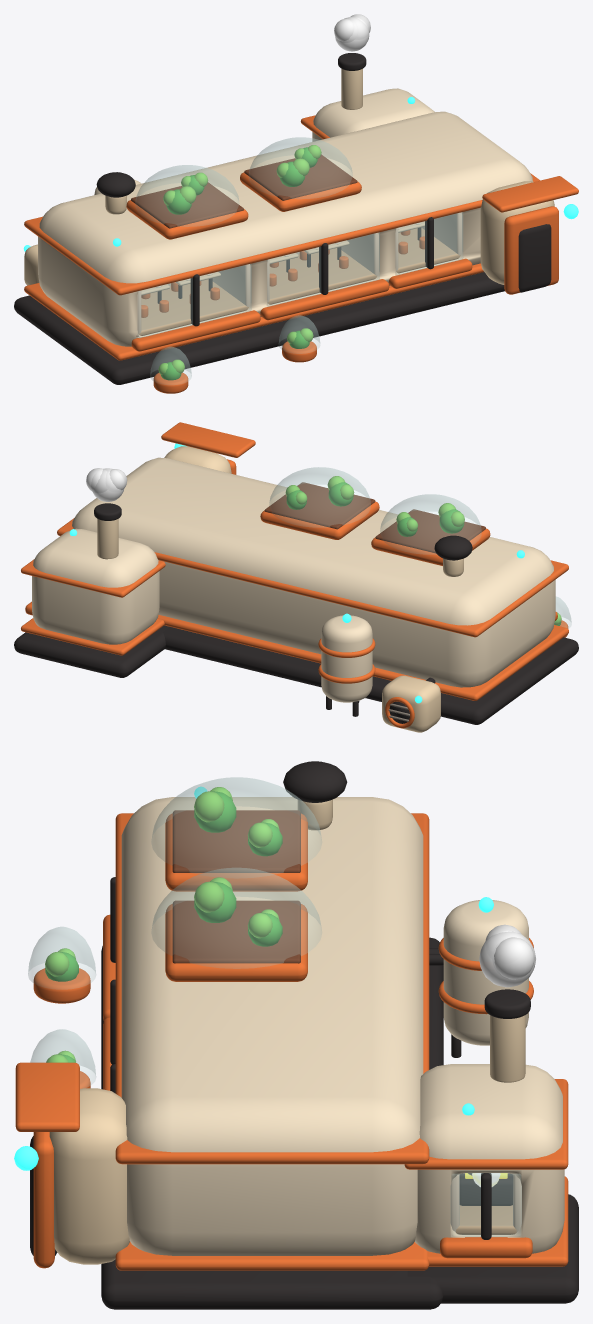
File: canteen-20i.glb
The picture shows the model from 3 angles, top to bottom: view 1: azimuth 30°, elevation 25°; view 2: azimuth 150°, elevation 25°; view 3: azimuth 270°, elevation 25°; orthographic projection. The views are drawn at different scales.
Visible parts, largest first — view 1: Cube.001, Cube.009, Cube.002, Cube, Cube.004, Cube.007, Cube.053, Cube.003, Sphere.002, Cylinder.052, Sphere.015; view 2: Cube.001, Cube.002, Cube, Cube.009, Cube.007, Cube.053, Cylinder.052, Sphere.002, Sphere.015; view 3: Cube.001, Cube.002, Cube.009, Cube, Cube.007, Cube.053, Sphere.002, Cylinder.052, Sphere.015, Cube.004, Cube.003, Sphere.013.
Part boxes in pixels (box(x1,y1,x2,y2)): Cube.001: box(38, 88, 532, 346); Cube.009: box(135, 137, 463, 384); Cube.002: box(24, 115, 578, 393); Cube: box(14, 53, 551, 384); Cube.004: box(139, 228, 460, 335); Cube.007: box(24, 68, 554, 295); Cube.053: box(131, 154, 357, 228); Cube.003: box(136, 212, 462, 336); Sphere.002: box(158, 145, 321, 374); Cylinder.052: box(161, 147, 317, 380); Sphere.015: box(334, 14, 370, 51); Cube.001: box(32, 457, 555, 702); Cube.002: box(21, 422, 568, 728); Cube: box(14, 503, 578, 724); Cube.009: box(269, 467, 571, 628); Cube.007: box(97, 446, 463, 732); Cube.053: box(264, 482, 485, 553); Cylinder.052: box(286, 482, 561, 625); Sphere.002: box(285, 476, 561, 624); Sphere.015: box(86, 468, 127, 501); Cube.001: box(121, 797, 564, 1255); Cube.002: box(15, 813, 568, 1270); Cube.009: box(28, 777, 521, 1237); Cube: box(30, 761, 578, 1309); Cube.007: box(49, 799, 525, 1264); Cube.053: box(172, 810, 300, 963); Sphere.002: box(45, 787, 279, 1062); Cylinder.052: box(45, 791, 282, 1062); Sphere.015: box(479, 924, 535, 987); Cube.004: box(456, 1205, 516, 1234); Cube.003: box(450, 1173, 521, 1232); Sphere.013: box(14, 786, 493, 1170).
Bounding box in the file's own units: 2.36 × 0.974 × 1.59.
